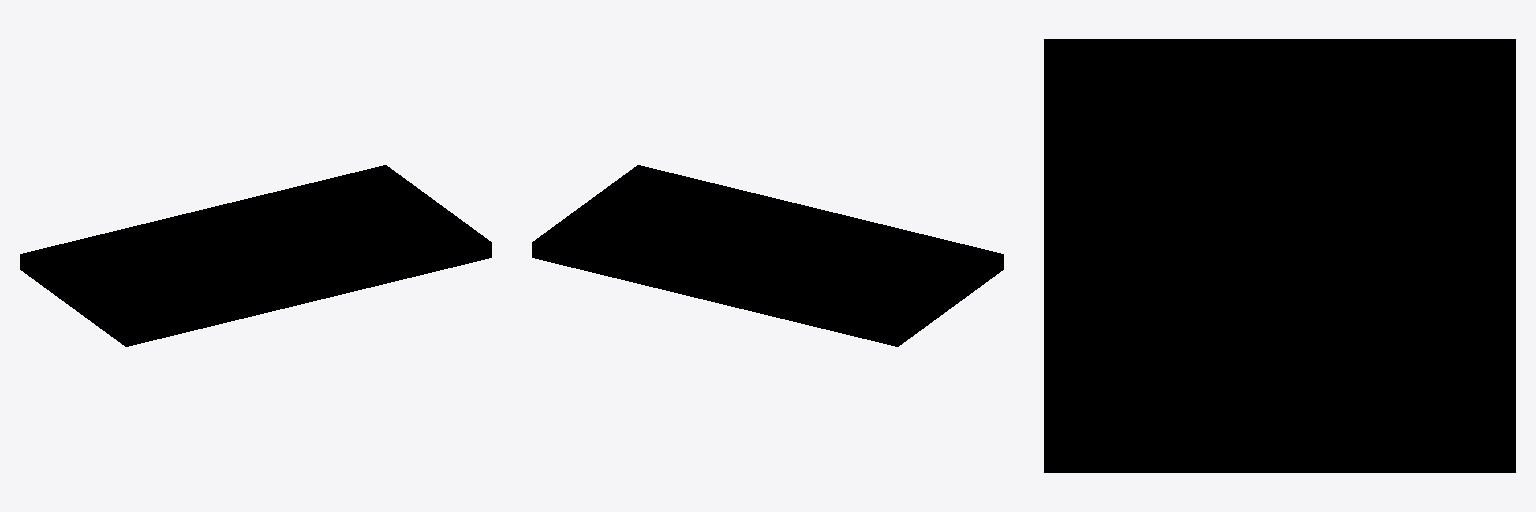
robot.urdf — table.urdf:
<?xml version="0.0" ?>
<robot name="table.urdf">
  <link name="baseLink">

    <!-- <contact>
      <lateral_friction value="1.0"/>
    </contact> -->
    
    <contact>
      <restitution value="1.0e-8" />
      <lateral_friction value="1.0"/>
      <!-- <rolling_friction value="1.0"/>
      <spinning_friction value="1.0"/> -->
      <contact_cfm value="0.00001"/>
      <contact_erp value="0.2"/>
    </contact>   
    
    
    <inertial>
      <origin rpy="0 0 0" xyz="0 0 0"/>
       <mass value="0.0"/>
       <inertia ixx="1" ixy="0" ixz="0" iyy="1" iyz="0" izz="1"/>
    </inertial>
    <visual>
      <origin rpy="0 0 0" xyz="0 0 0.6"/>
      <geometry>
				<!-- <mesh filename="table.obj" scale="1.5 1 0.05"/> -->
        <box size="1.2 0.6 0.05"/>
        <!-- <box size="100. 100. 0.05"/> -->
      </geometry>
      <material name="white">
        <!-- <color rgba="1 1 1 1"/> -->
        <color rgba="0 0 0 1"/>
      </material>
    </visual>
    <collision>
      <origin rpy="0 0 0" xyz="0 0 0.6"/>
      <geometry>
        <!-- <box size="100. 100. 0.05"/> -->
	 	    <box size="1.2 0.6 0.05"/>
        <!-- <box size="1. 1. 0.05"/> -->
      </geometry>
    </collision>
  
  </link>
</robot>

--- Facts derived from the render (not from the file) ---
3 views of the same robot in one strip: view 1: azimuth 30°, elevation 25°; view 2: azimuth 150°, elevation 25°; view 3: azimuth 270°, elevation 25° (orthographic).
Robot: table.urdf — 1 links, 0 joints (none); root link baseLink; default pose: all joints at 0.
Visible links, largest first — view 1: baseLink; view 2: baseLink; view 3: baseLink.
Boxes of the visible links, x1,y1,x2,y2 form: baseLink: (20,165,491,346); baseLink: (532,165,1003,346); baseLink: (1044,39,1515,472).
Size in the robot's own frame: 1.2 by 0.6 by 0.05 metres.
Geometry: primitives only (box / cylinder / sphere), no mesh files.
